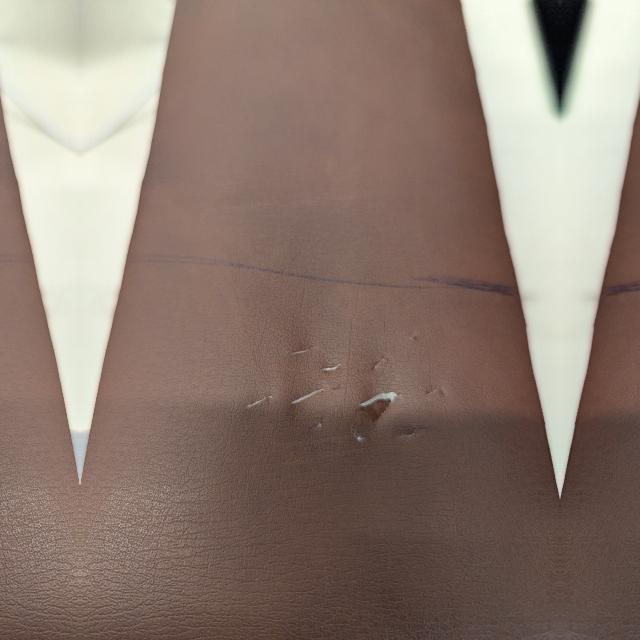belt_crack: (241, 305, 460, 461)
